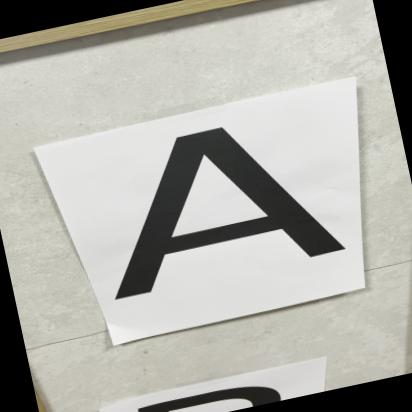seat: (82, 98, 364, 326)
